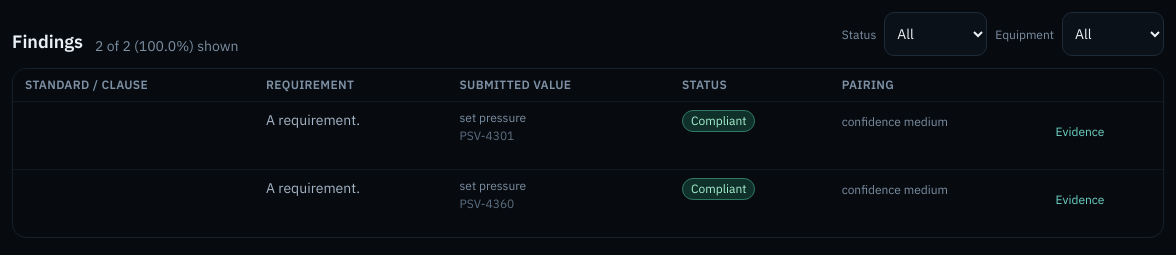
filters › narrows by equipment tag
The width and height of the screenshot is (1176, 255).
Expected: the text "set pressure" is shown 2 times, [460,110,526,125]; [460,178,526,193]
Select "PSV-4301" in the dropdown named "Filter by equipment tag" at (1113, 34), box [1062,12,1164,56]
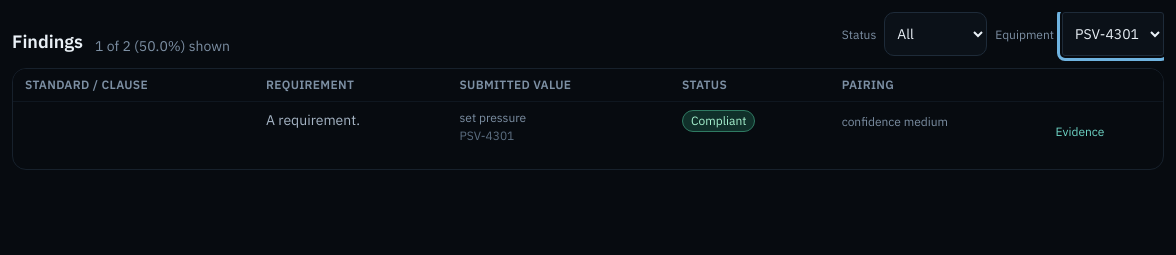
Expected: the text "PSV-4301" is shown, [460,128,514,143]
Expected: the text "set pressure" is shown once, [460,110,526,125]
